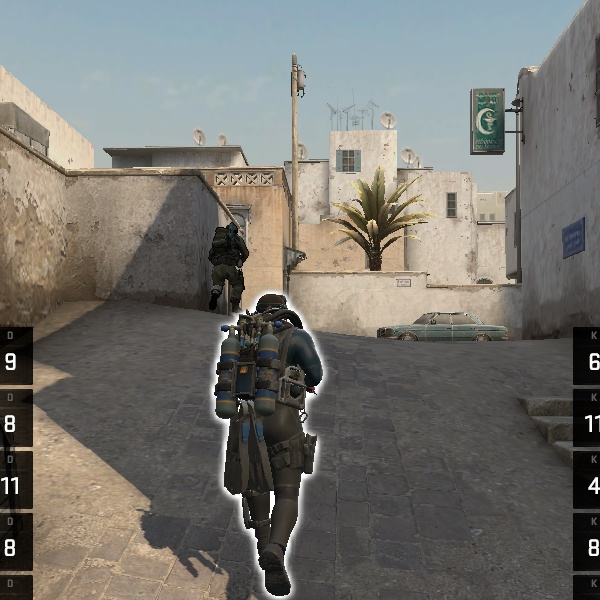ct_body: (205, 215, 255, 314)
ct_head: (222, 218, 242, 236)
